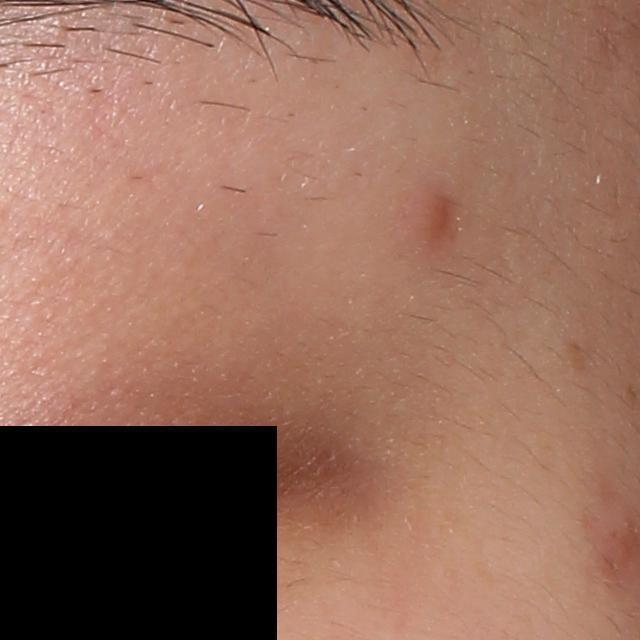papule: (404, 187, 462, 252)
